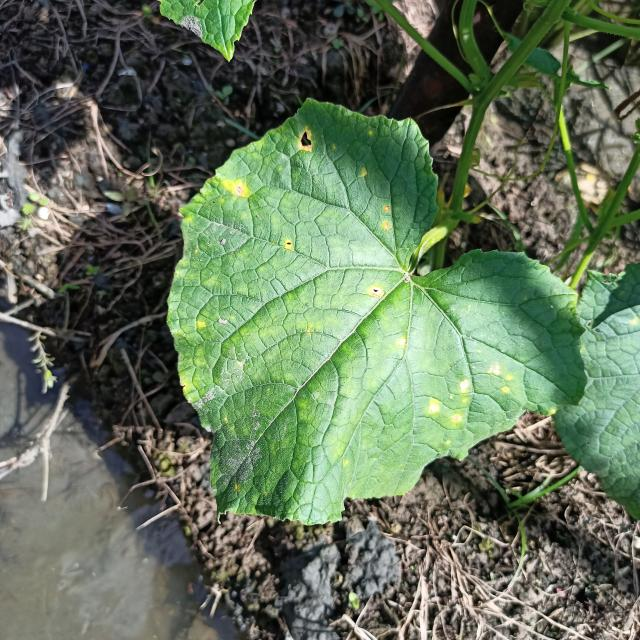disease_cucumber: (425, 360, 515, 428), (294, 125, 318, 158), (220, 177, 250, 201), (381, 204, 392, 235), (366, 284, 384, 301), (394, 336, 408, 350), (284, 240, 297, 251)
